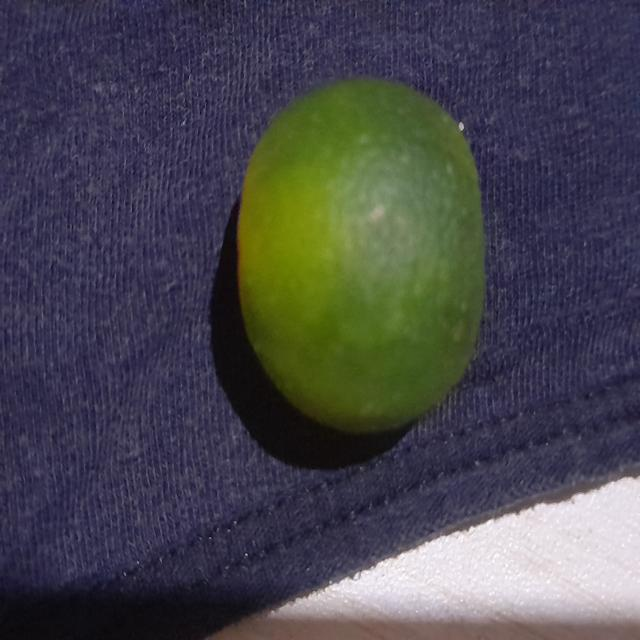heathy: (230, 65, 484, 451)
